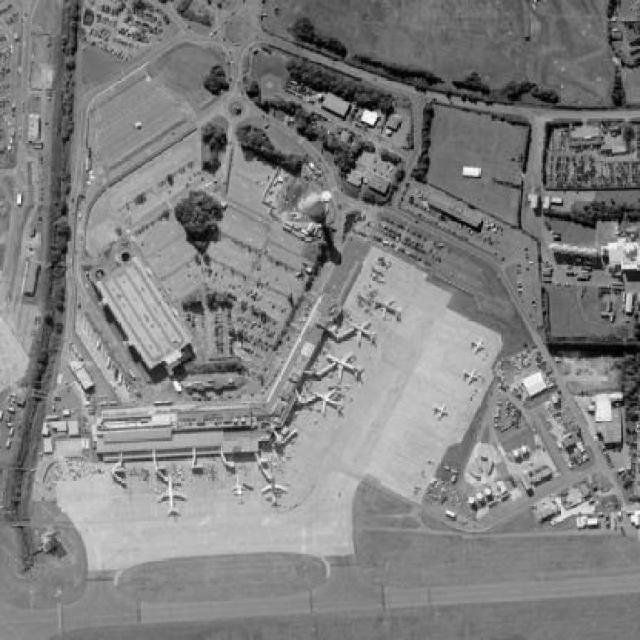airplane: (323, 349, 368, 385), (154, 476, 191, 517), (260, 474, 291, 511), (313, 388, 347, 420), (374, 296, 405, 324), (350, 321, 378, 349), (230, 475, 249, 499), (432, 401, 450, 423), (469, 337, 489, 356), (464, 367, 481, 386)
